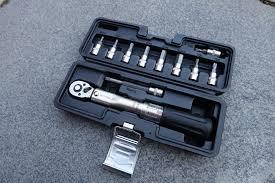wrench: (66, 78, 213, 137)
